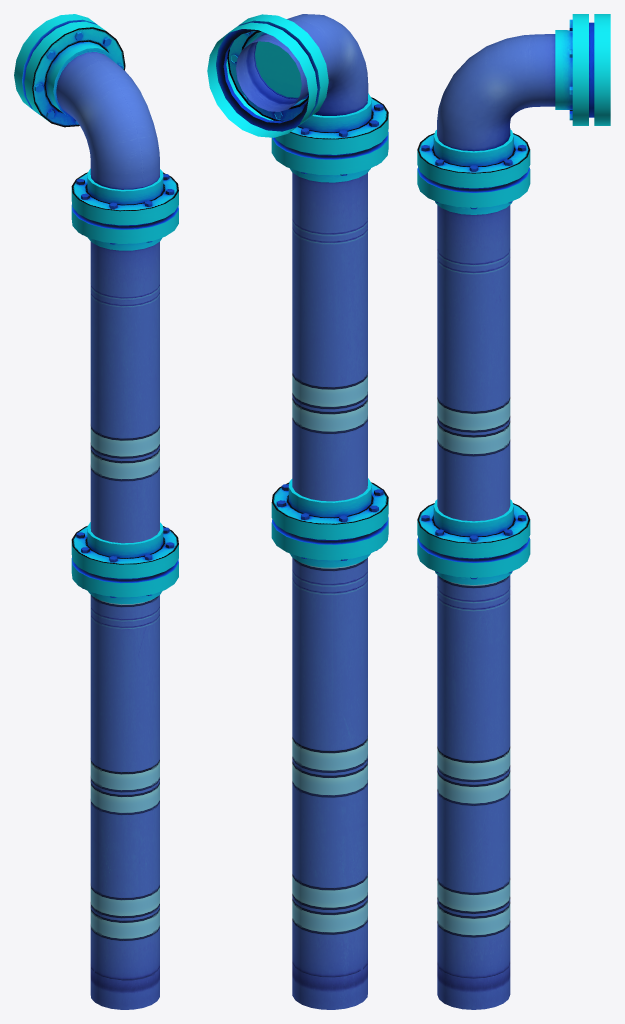
File: Pipe.FBX
The picture shows the model from 3 angles, left to right: view 1: azimuth 30°, elevation 25°; view 2: azimuth 150°, elevation 25°; view 3: azimuth 270°, elevation 25°; orthographic projection. The views are drawn at different scales.
Parts seen in each view (by area): view 1: Object245, Object246, Object247; view 2: Object245, Object246, Object247; view 3: Object245, Object246, Object247.
Part boxes in pixels (x1,y1,x2,y2): Object245: [71, 168, 178, 1009]; Object246: [14, 14, 159, 189]; Object247: [71, 522, 178, 604]; Object245: [271, 93, 388, 1009]; Object246: [207, 14, 368, 137]; Object247: [271, 478, 388, 567]; Object245: [417, 129, 530, 1009]; Object246: [437, 14, 610, 151]; Object247: [417, 499, 530, 584].
Bounding box in the file's own units: 127 × 1200 × 216.
